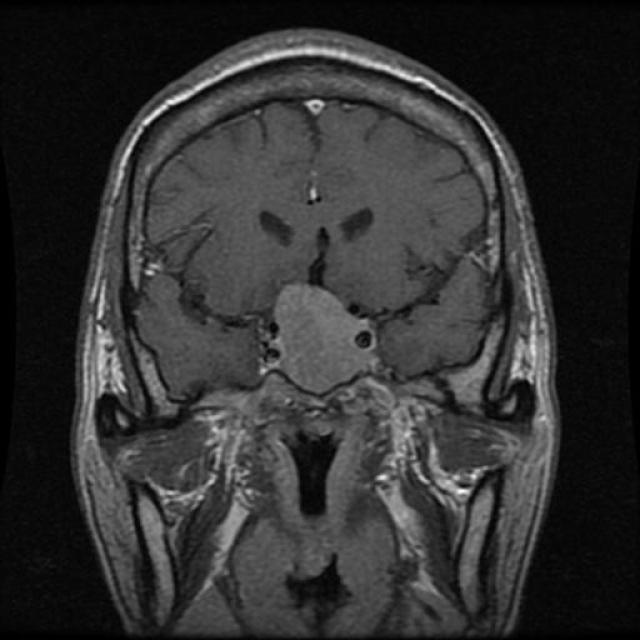pituitary: (267, 276, 383, 396)
